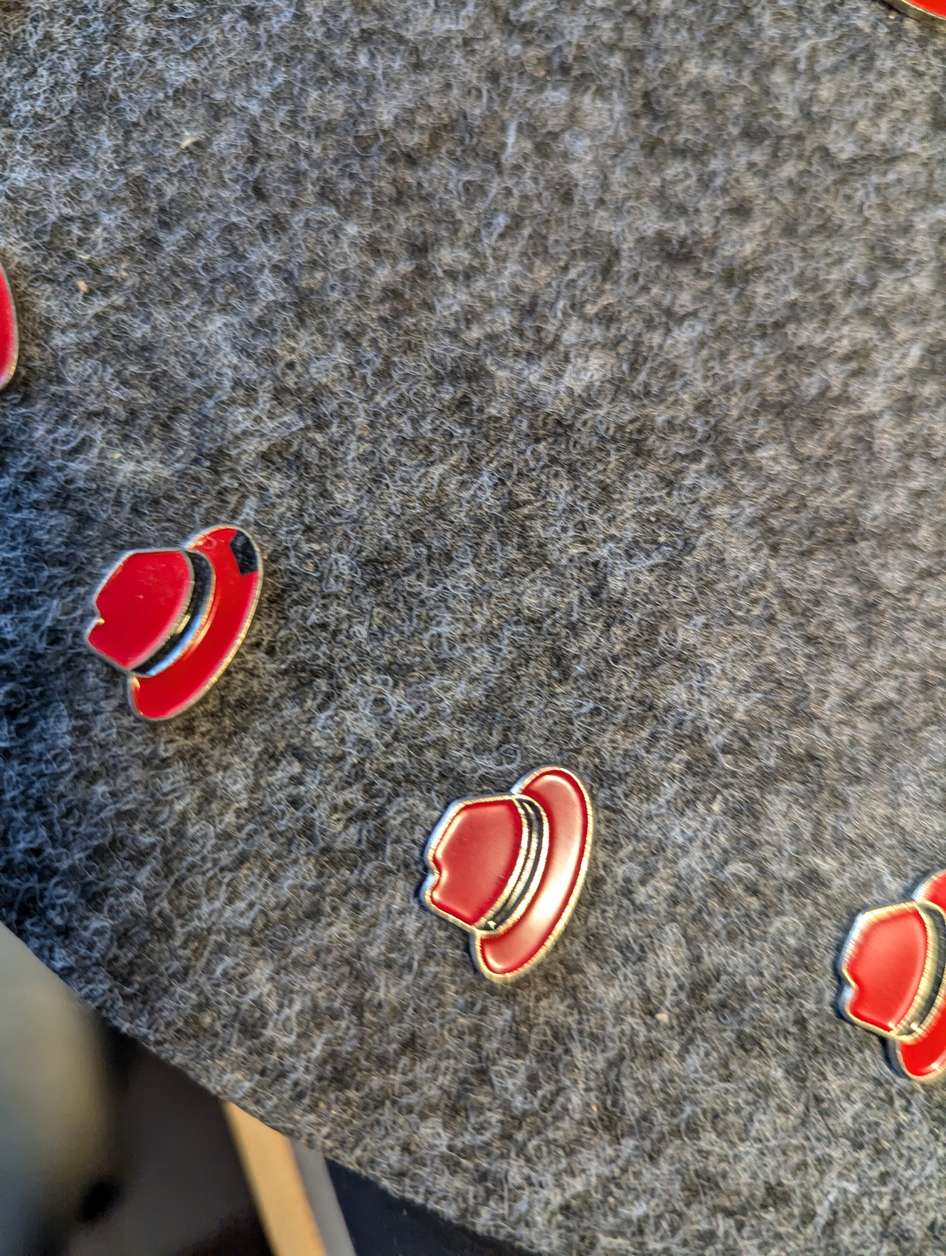Red-Hat: (394, 731, 609, 1028), (61, 497, 296, 749), (818, 828, 946, 1123)
Scratch: (216, 515, 277, 587)
